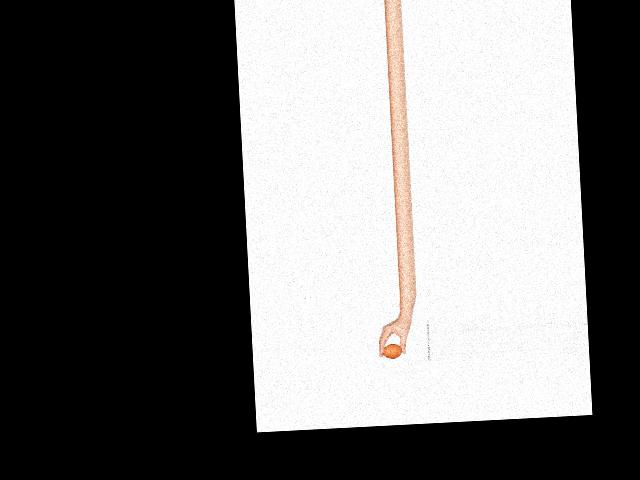egg: (382, 344, 402, 359)
